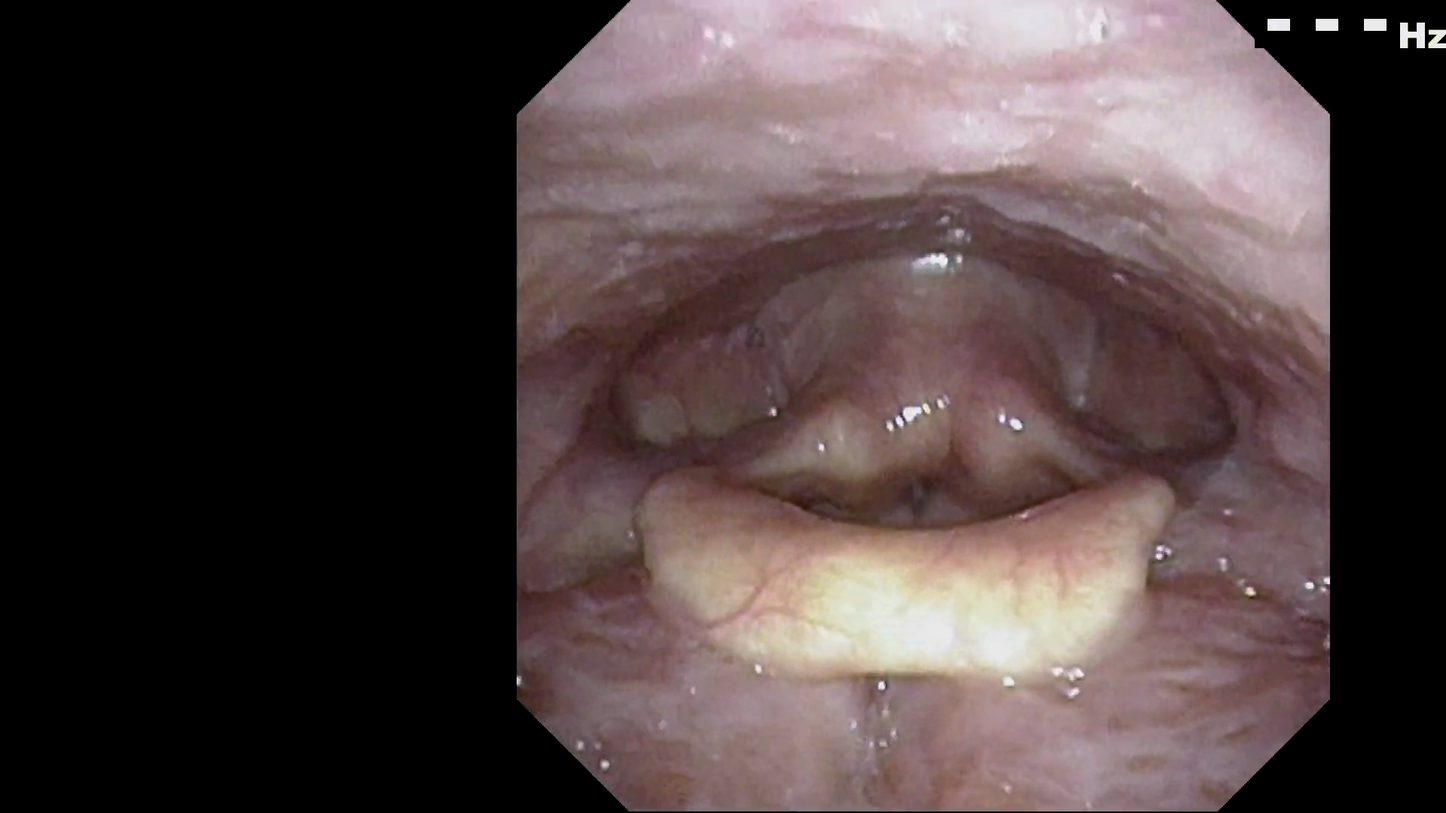epiglottis: (631, 441, 1201, 693)
trachea: (885, 451, 972, 555)
